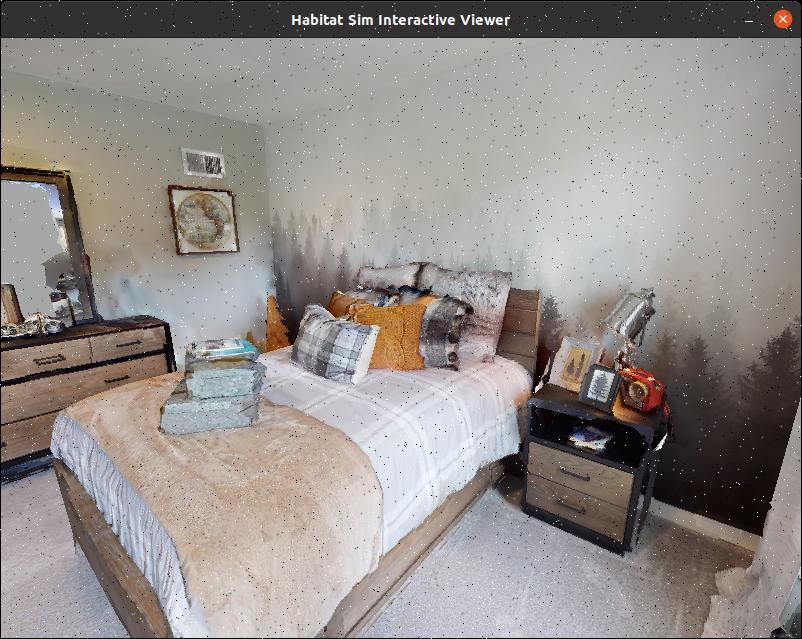bed: (37, 251, 570, 639)
